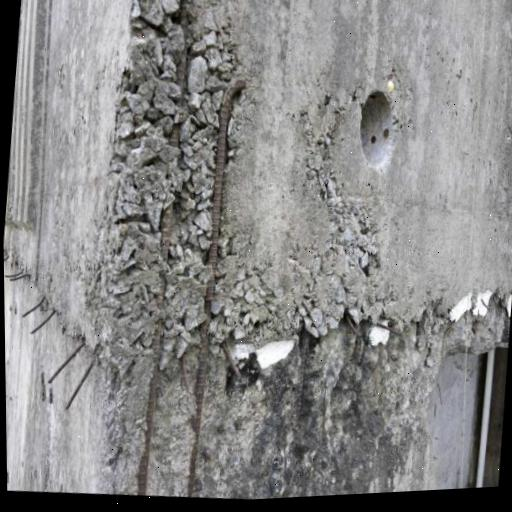exposed_rebar: (187, 80, 247, 495), (138, 268, 166, 495), (48, 340, 86, 383), (65, 360, 94, 411), (176, 0, 189, 108), (296, 328, 308, 426), (160, 204, 173, 264), (220, 343, 241, 379), (368, 345, 385, 386), (31, 309, 57, 335), (23, 296, 46, 318), (344, 315, 361, 337), (376, 322, 400, 337), (181, 352, 190, 392), (322, 386, 328, 439), (170, 124, 180, 147), (6, 270, 29, 280), (443, 321, 456, 337), (41, 372, 46, 401), (481, 298, 492, 309), (49, 387, 53, 405), (438, 386, 442, 404), (457, 484, 459, 489), (458, 472, 461, 475), (15, 306, 16, 313), (466, 379, 469, 381), (436, 437, 438, 440), (434, 457, 437, 459), (468, 370, 470, 371)
